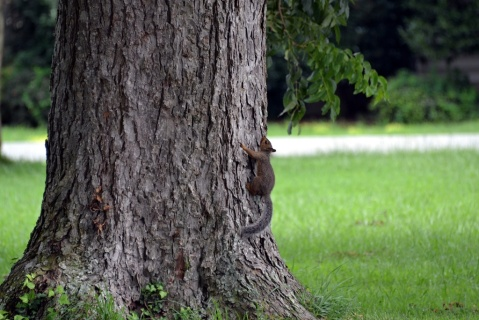Squirrel: (237, 134, 275, 238)
